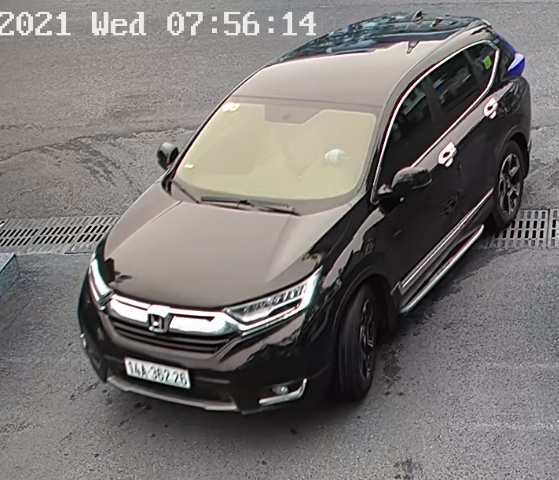vehicle plate: (117, 355, 192, 388)
